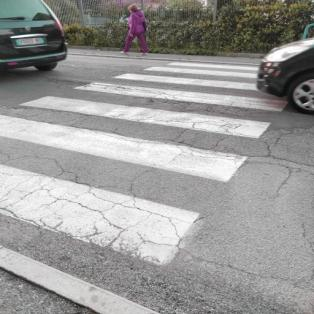Paso de Cebra: (1, 92, 277, 188)
